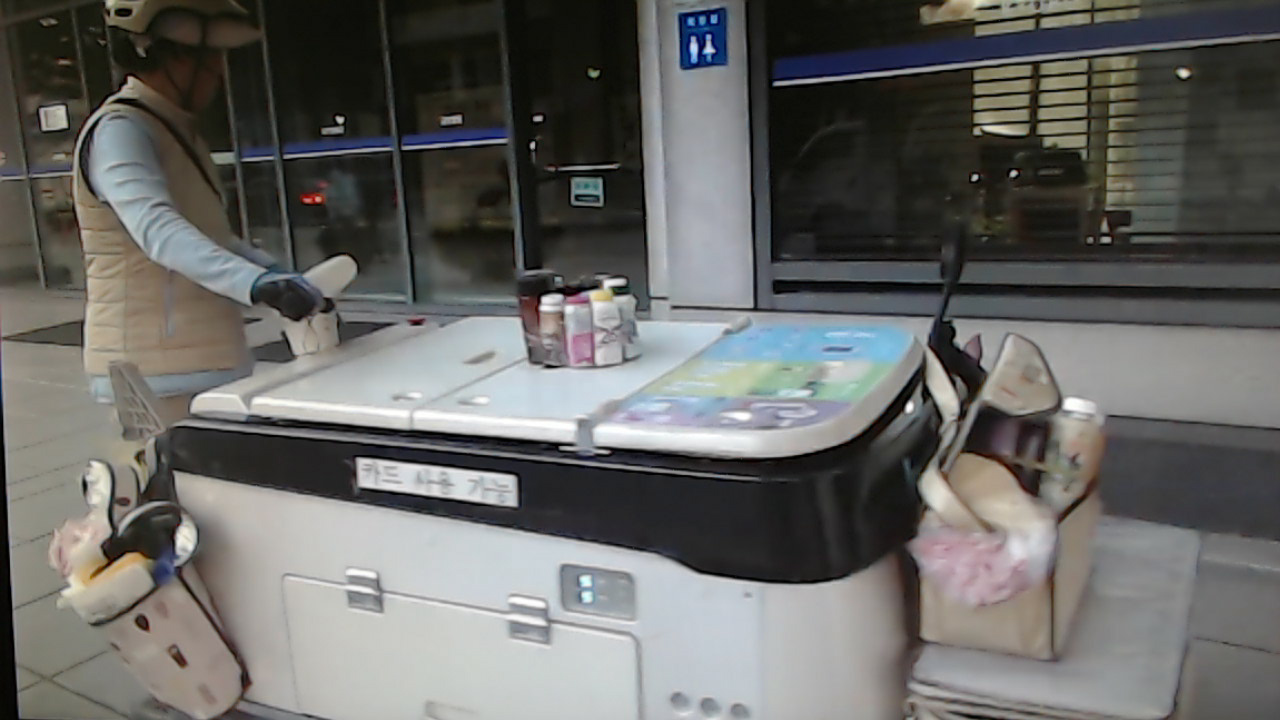Yakurut: (34, 7, 374, 720)
